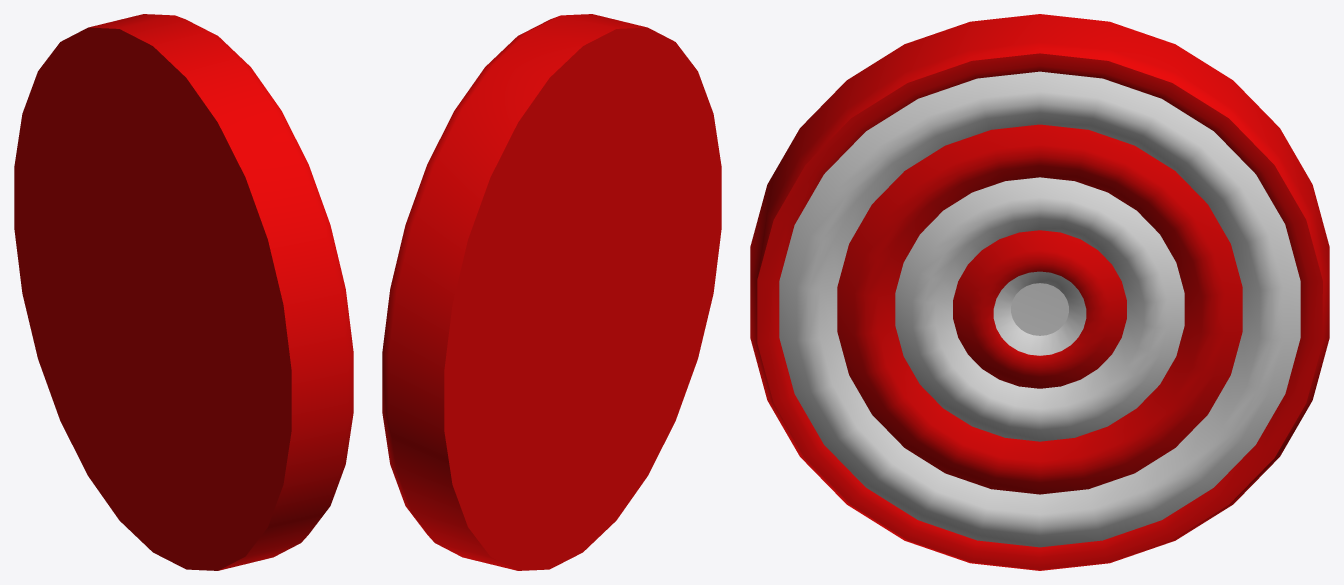
File: aiming_target_low.fbx
3 views of the same model, side by side, from view 1: azimuth 30°, elevation 25°; view 2: azimuth 150°, elevation 25°; view 3: azimuth 270°, elevation 25° (orthographic). The views are drawn at different scales.
Visible parts, largest first — view 1: pCylinder1; view 2: pCylinder1; view 3: pCylinder1.
Boxes of the visible parts, x1,y1,x2,y2 form: pCylinder1: [14, 14, 353, 570]; pCylinder1: [382, 14, 721, 570]; pCylinder1: [750, 14, 1329, 570].
Size of the model in its own units: 0.2975 by 2 by 1.99.
